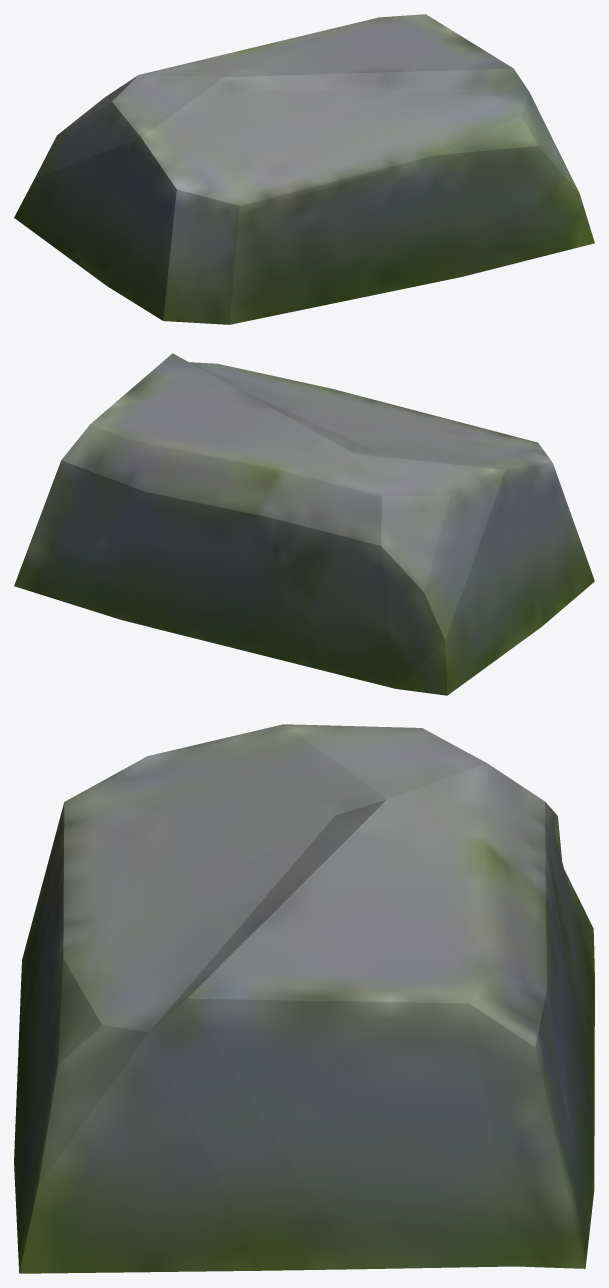
The model's file is sn_pebble_square_2.glb.
3 renders of one model, top to bottom at view 1: azimuth 30°, elevation 25°; view 2: azimuth 150°, elevation 25°; view 3: azimuth 270°, elevation 25°, orthographic. The views are drawn at different scales.
Parts seen in each view (by area): view 1: Pebble_Square_2; view 2: Pebble_Square_2; view 3: Pebble_Square_2.
Part boxes in pixels (<box>): Pebble_Square_2: <box>14,14,594,324</box>; Pebble_Square_2: <box>14,353,594,695</box>; Pebble_Square_2: <box>14,724,594,1273</box>.
Size of the model in its own units: 0.3911 by 0.1404 by 0.2803.
Materials: 1 (1 with a texture image).
